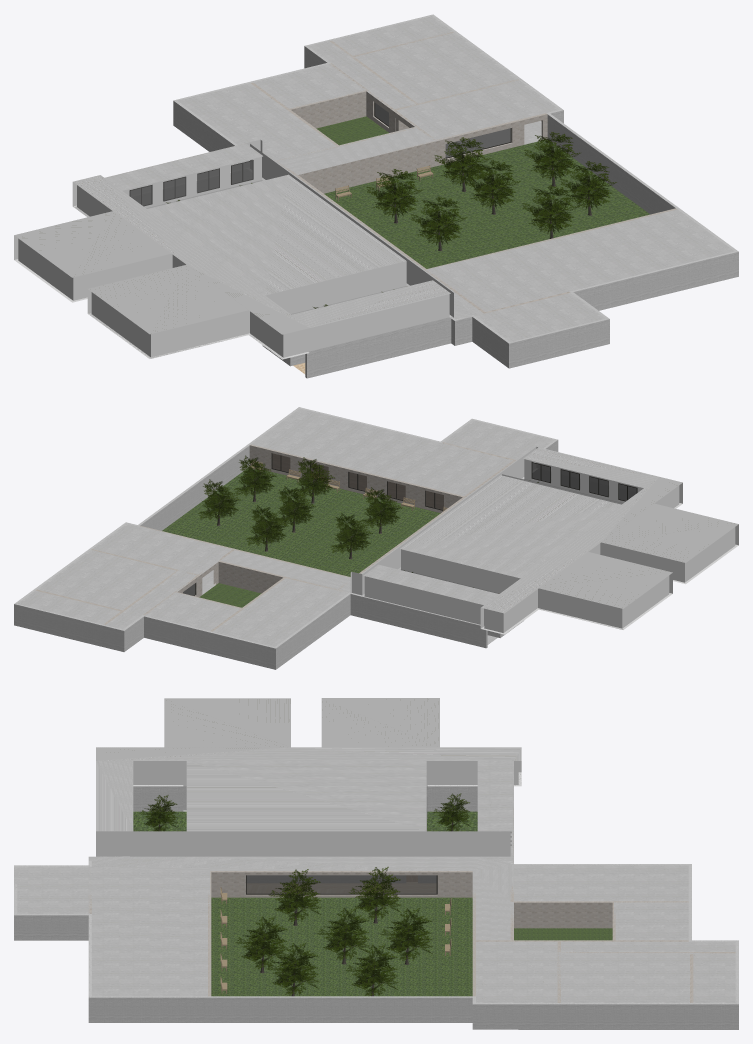
3 renders of one model, top to bottom at view 1: azimuth 30°, elevation 25°; view 2: azimuth 150°, elevation 25°; view 3: azimuth 270°, elevation 25°, orthographic. The views are drawn at different scales.
Visible parts, largest first — view 1: 1st_roof, 2nd_roof, 1st_floor-col, ext_1st_walls, 2nd_walls, int_1st_walls, glass.003, tree_5_leaves.003, tree_5_leaves.006, tree_5_leaves.002, tree_5_leaves, tree_5_leaves.004 (+3 smaller); view 2: 1st_roof, 2nd_roof, 1st_floor-col, ext_1st_walls, 2nd_walls, int_1st_walls, glass, glass.002, tree_5_leaves.005, tree_5_leaves.003, tree_5_leaves.001, tree_5_leaves.004 (+4 smaller); view 3: 1st_roof, 2nd_roof, 1st_floor-col, ext_1st_walls, 2nd_walls, int_1st_walls, DoubleWindow.005, tree_5_leaves.004, tree_5_leaves.005, tree_5_leaves, tree_5_leaves.002, tree_5_leaves.001 (+4 smaller).
Part boxes in pixels (x1,y1,x2,y2): 1st_roof: (73, 15, 734, 358); 2nd_roof: (14, 143, 450, 334); 1st_floor-col: (293, 104, 649, 374); ext_1st_walls: (132, 14, 738, 378); 2nd_walls: (14, 139, 453, 359); int_1st_walls: (251, 32, 677, 313); glass.003: (130, 160, 253, 206); tree_5_leaves.003: (410, 196, 467, 244); tree_5_leaves.006: (522, 185, 578, 233); tree_5_leaves.002: (366, 169, 423, 217); tree_5_leaves: (464, 160, 520, 208); tree_5_leaves.004: (560, 161, 616, 209); 1st_roof: (16, 407, 644, 646); 2nd_roof: (363, 447, 738, 613); 1st_floor-col: (162, 454, 497, 644); ext_1st_walls: (14, 407, 635, 669); 2nd_walls: (350, 447, 738, 634); int_1st_walls: (36, 442, 516, 631); glass: (272, 453, 443, 509); glass.002: (532, 463, 637, 500); tree_5_leaves.005: (246, 505, 288, 545); tree_5_leaves.003: (360, 487, 402, 527); tree_5_leaves.001: (198, 479, 240, 520); tree_5_leaves.004: (234, 455, 276, 496); 1st_roof: (14, 773, 738, 1004); 2nd_roof: (96, 698, 521, 831); 1st_floor-col: (133, 811, 612, 996); ext_1st_walls: (14, 786, 738, 1029); 2nd_walls: (96, 761, 521, 856); int_1st_walls: (88, 871, 735, 1002); DoubleWindow.005: (246, 875, 436, 893); tree_5_leaves.004: (266, 943, 318, 995); tree_5_leaves.005: (380, 908, 432, 960); tree_5_leaves: (317, 907, 369, 960); tree_5_leaves.002: (349, 867, 401, 919); tree_5_leaves.001: (345, 944, 398, 996).
Bounding box in the file's own units: 99.8 × 8.95 × 109.
Materials: 18 (16 with a texture image).
